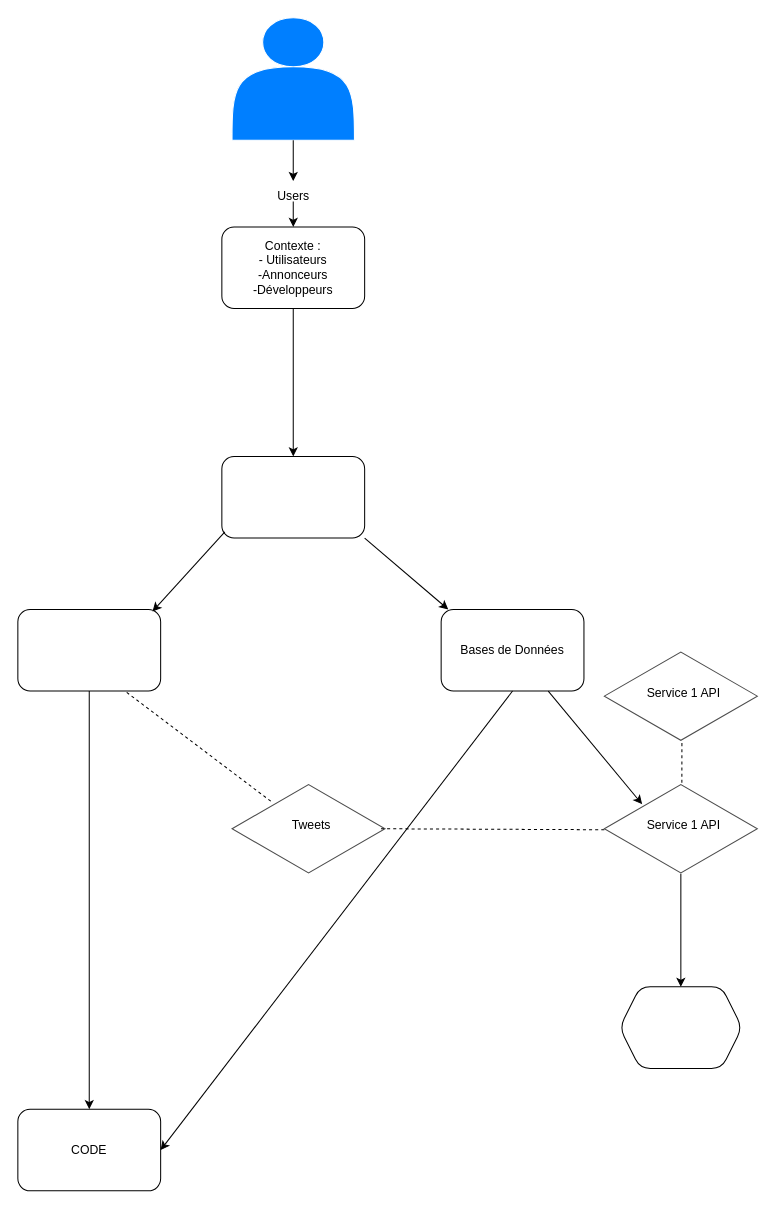
Some shapes in this 775 by 1209 pixel diagram are drawn without their labels. The centre of each missing label's shape, as x and y in pixels:
"Conteneurs" goes at point 293,496.
"Database [Container]" goes at point 680,1027.
"Serveurs Web" goes at point 89,649.
